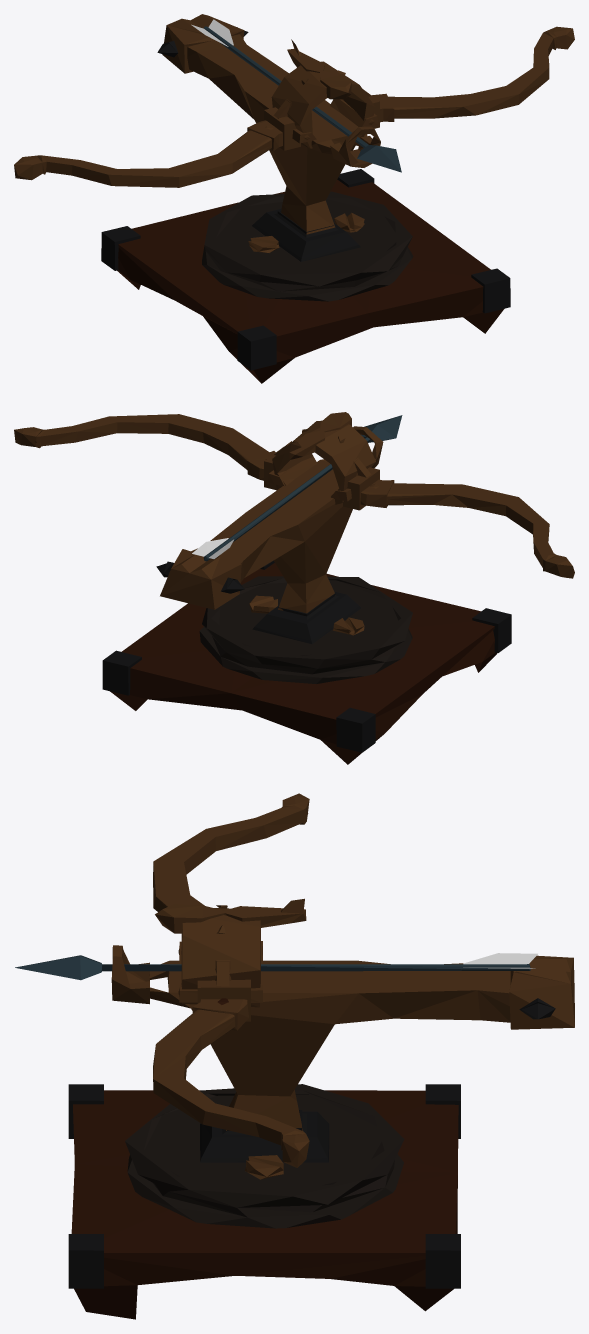
File: ballista4.obj
3 renders of one model, top to bottom at view 1: azimuth 30°, elevation 25°; view 2: azimuth 150°, elevation 25°; view 3: azimuth 270°, elevation 25°, orthographic. The views are drawn at different scales.
Bounding box in the file's own units: 13.08 × 5.83 × 8.66.
